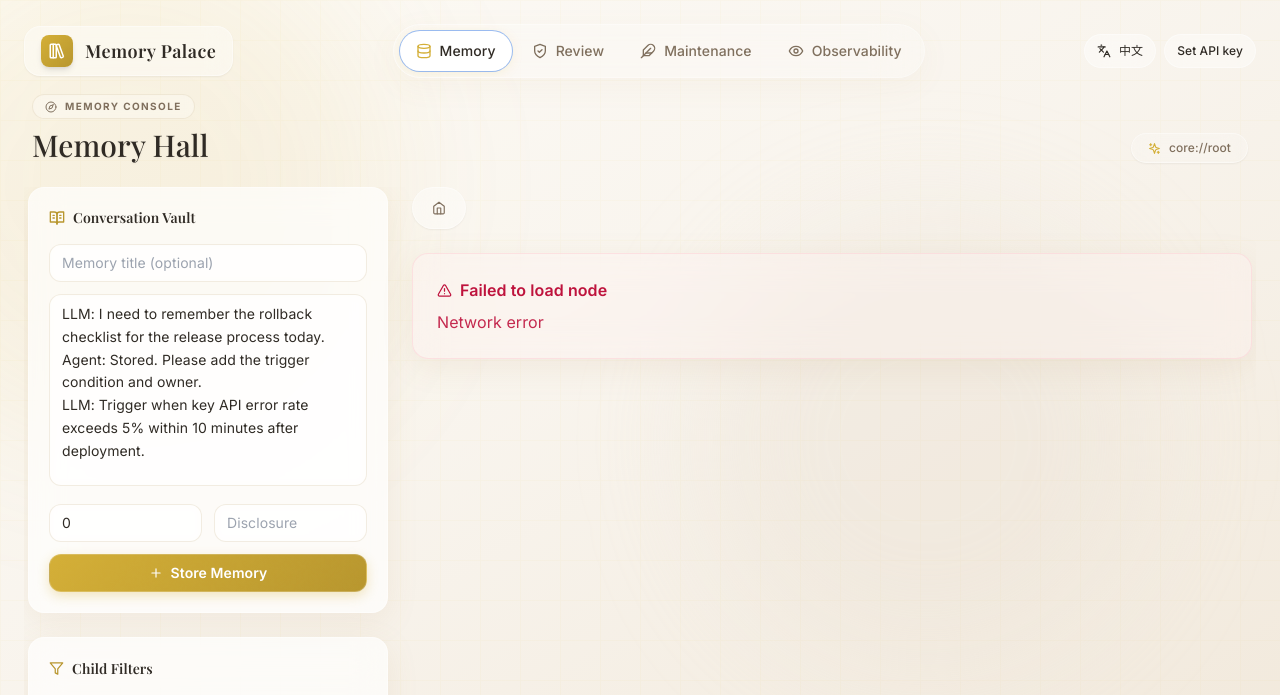
Test: App routing › shows an error instead of crashing when browser storage rejects the API key write
Click the button "Set API key" at (1210, 51), box [1164,34,1256,68]
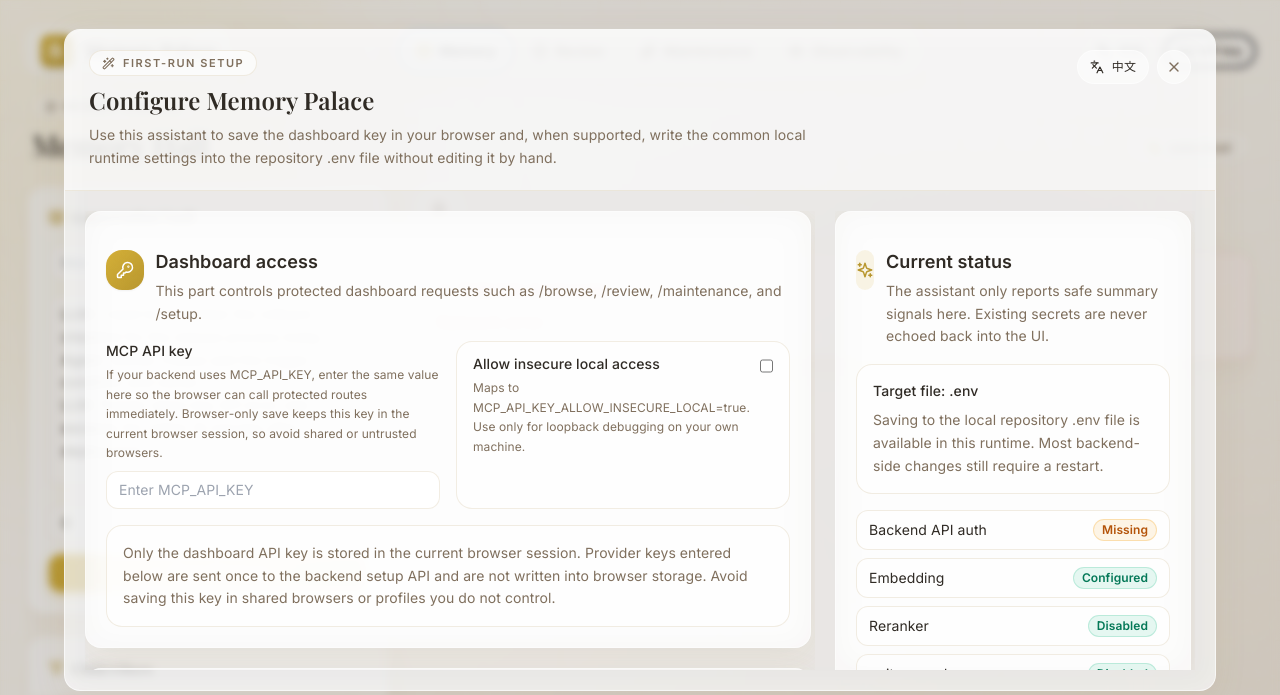
Type "stored-key" into the password field with placeholder "Enter MCP_API_KEY" at (273, 490), box [106,471,440,509]
(page scrolled)
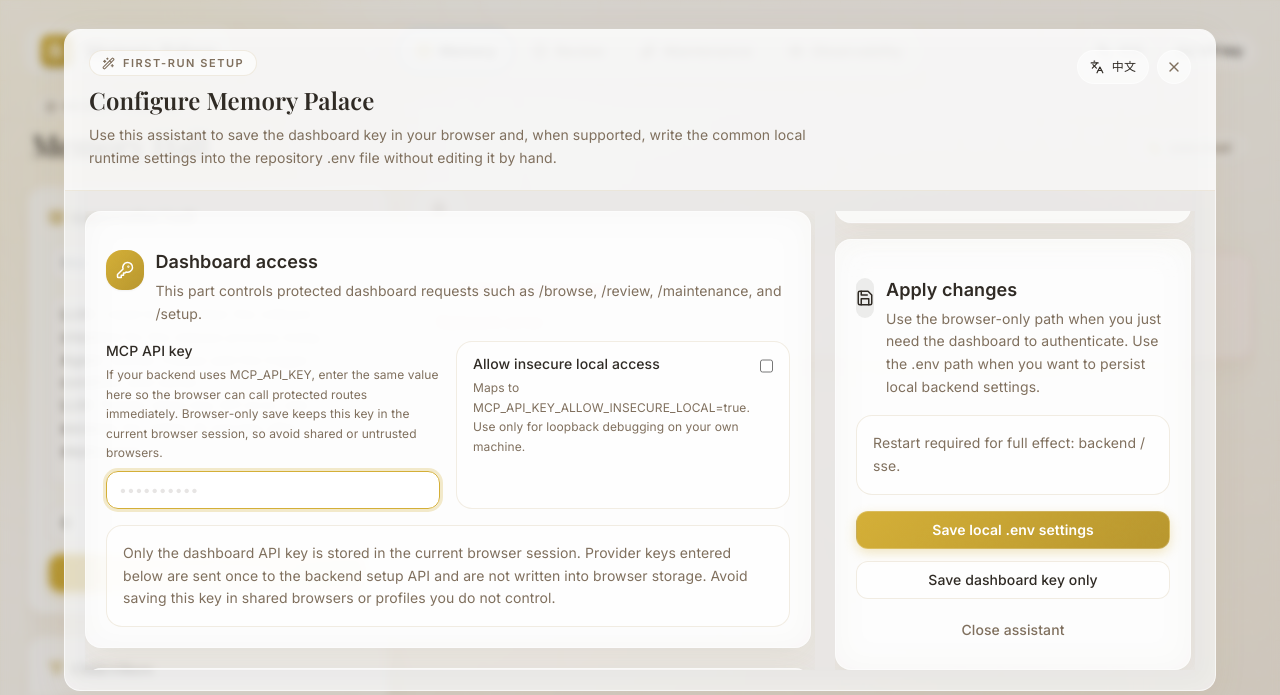
Click the button "Save dashboard key only" at (1013, 580), box [856,561,1170,599]
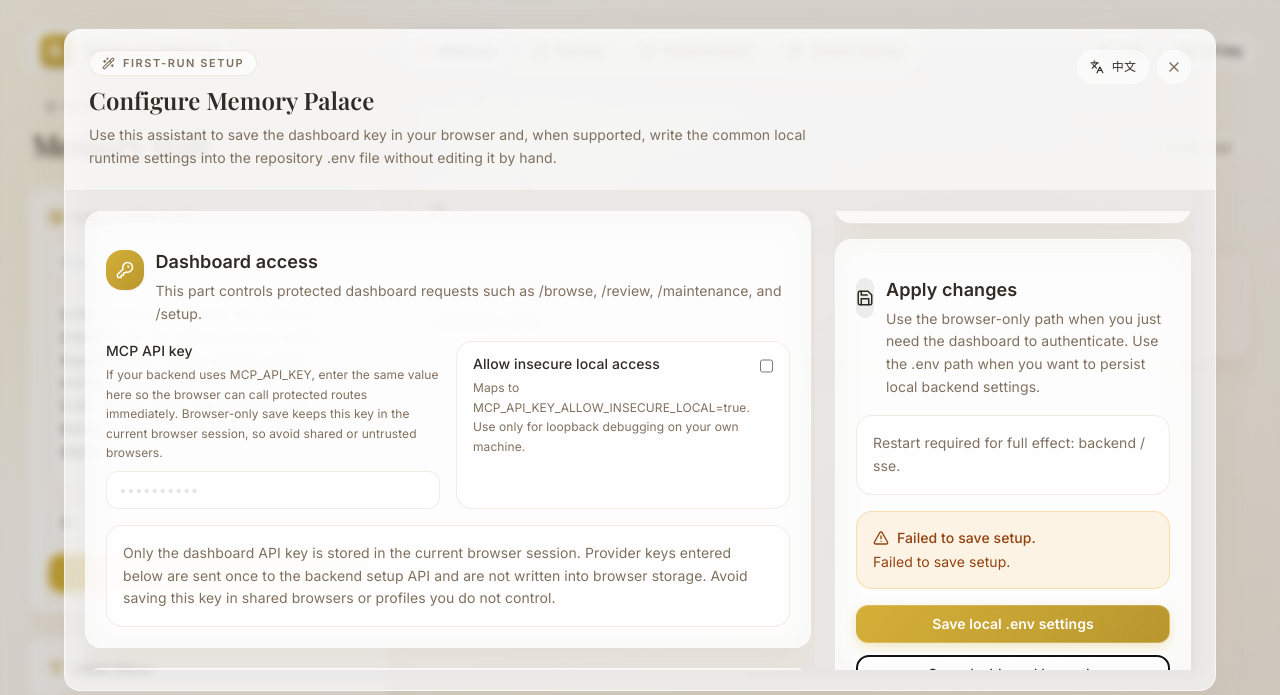
Expected: the button "Set API key" is shown, [1164,34,1256,68]
Expected: the dialog "Configure Memory Palace" is shown
Expected: the text "Failed to save setup." is shown, [873,529,1036,546]
